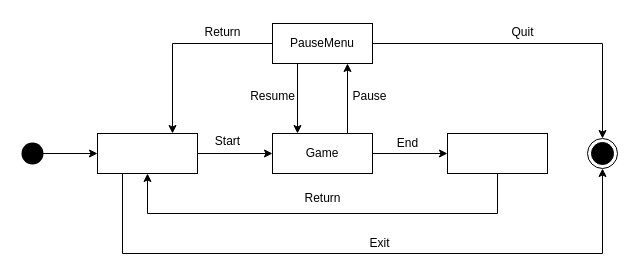
The diagram is 635 pixels wide and 279 high, and some of its shapes have lost their labels. Each missing label, with the box of its shape:
Credits: (446, 132, 548, 174)
MainMenu: (96, 132, 198, 174)
